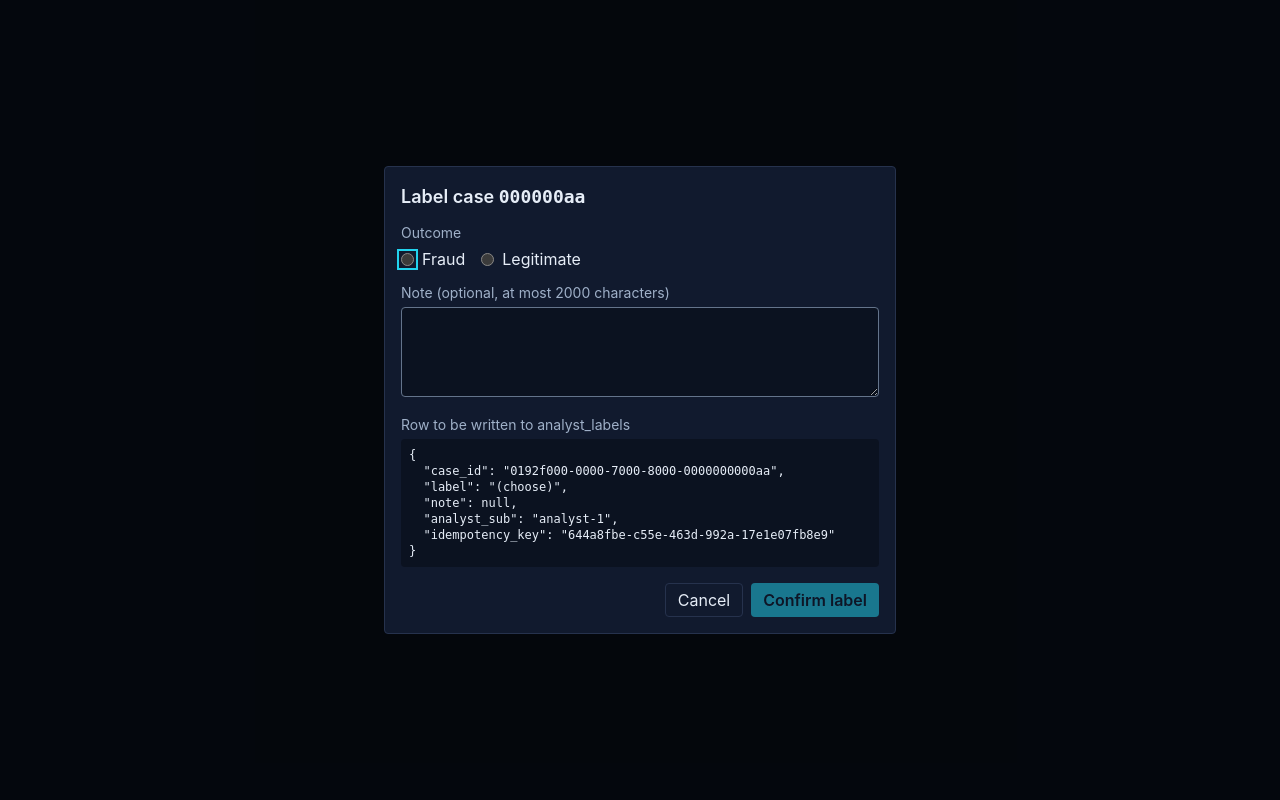
LabelDialog › explains a conflicting label and keeps the dialog open
Click the radio button labelled "Legitimate".
click(488, 259)  # box [481,252,494,266]
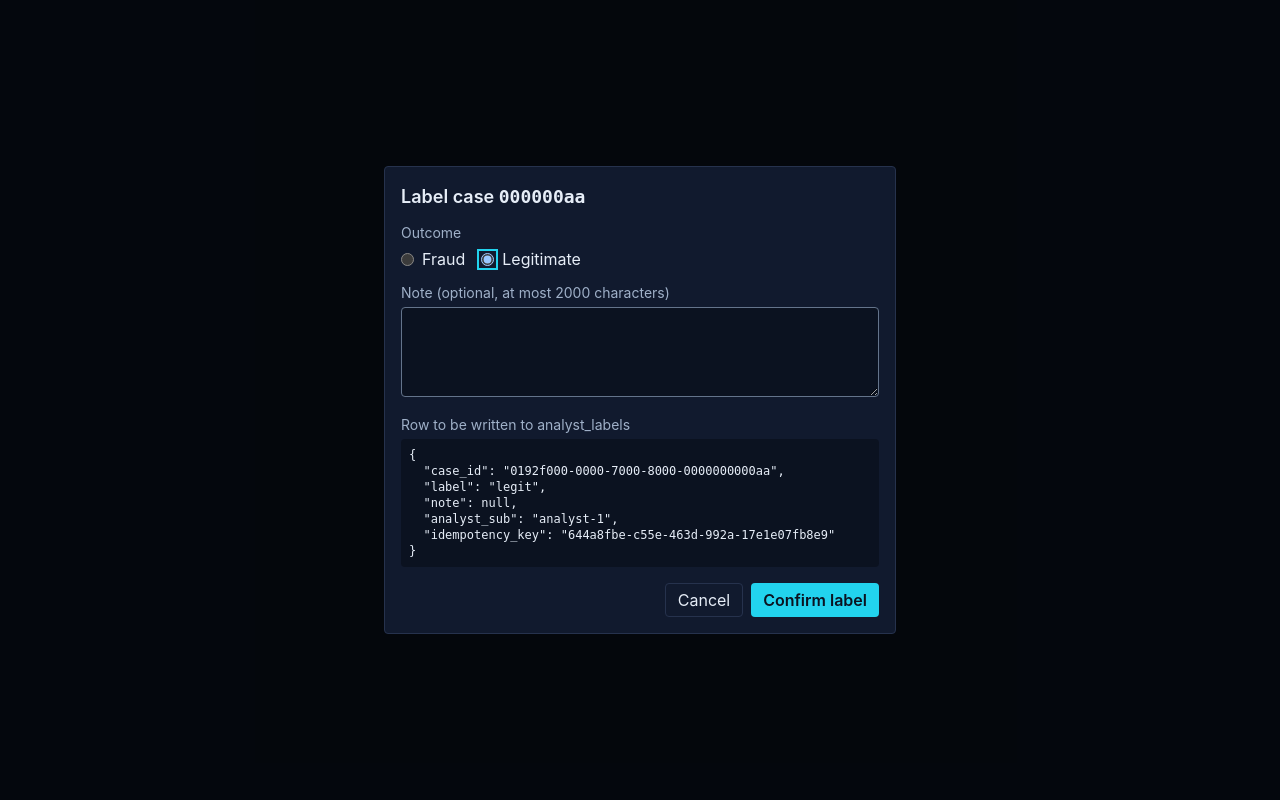
Click the button "Confirm label".
click(815, 600)  # box [751,583,879,617]
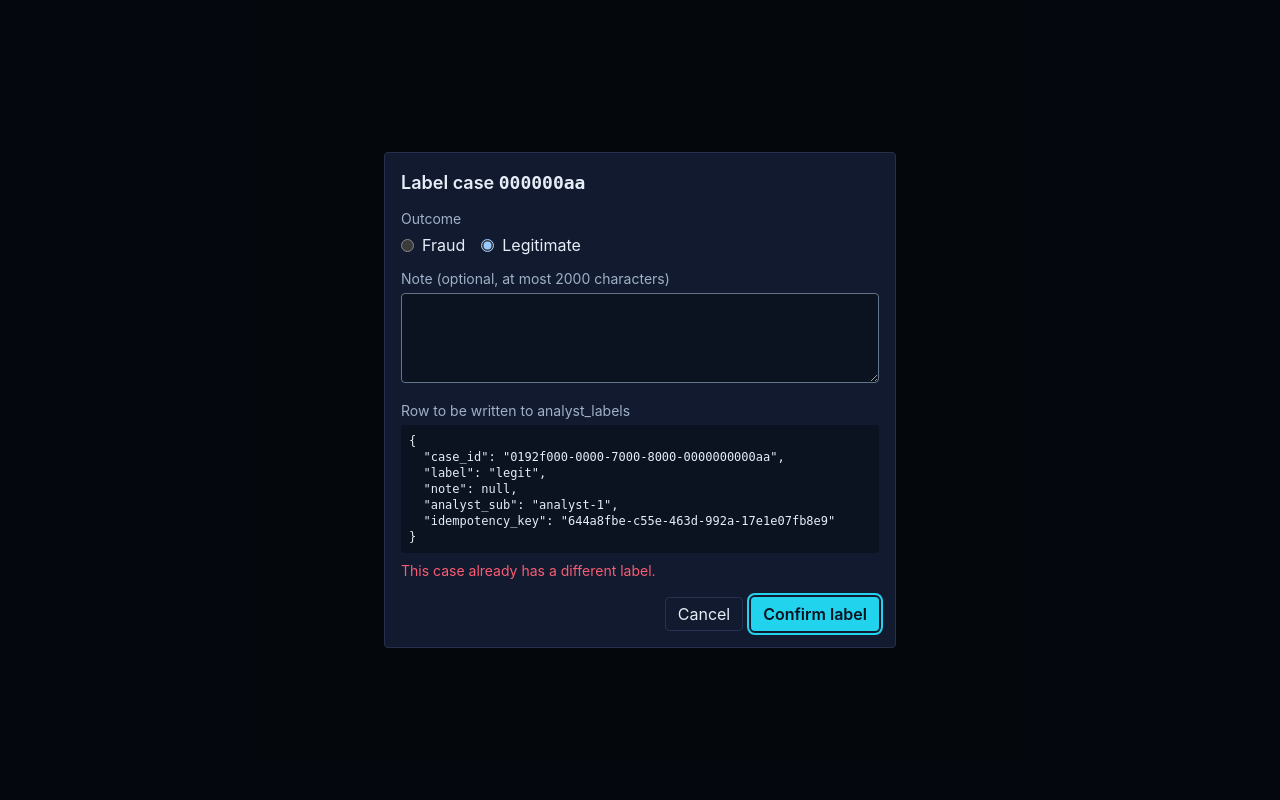
Check: the message shows "already has a different label", box [401,562,656,579]
